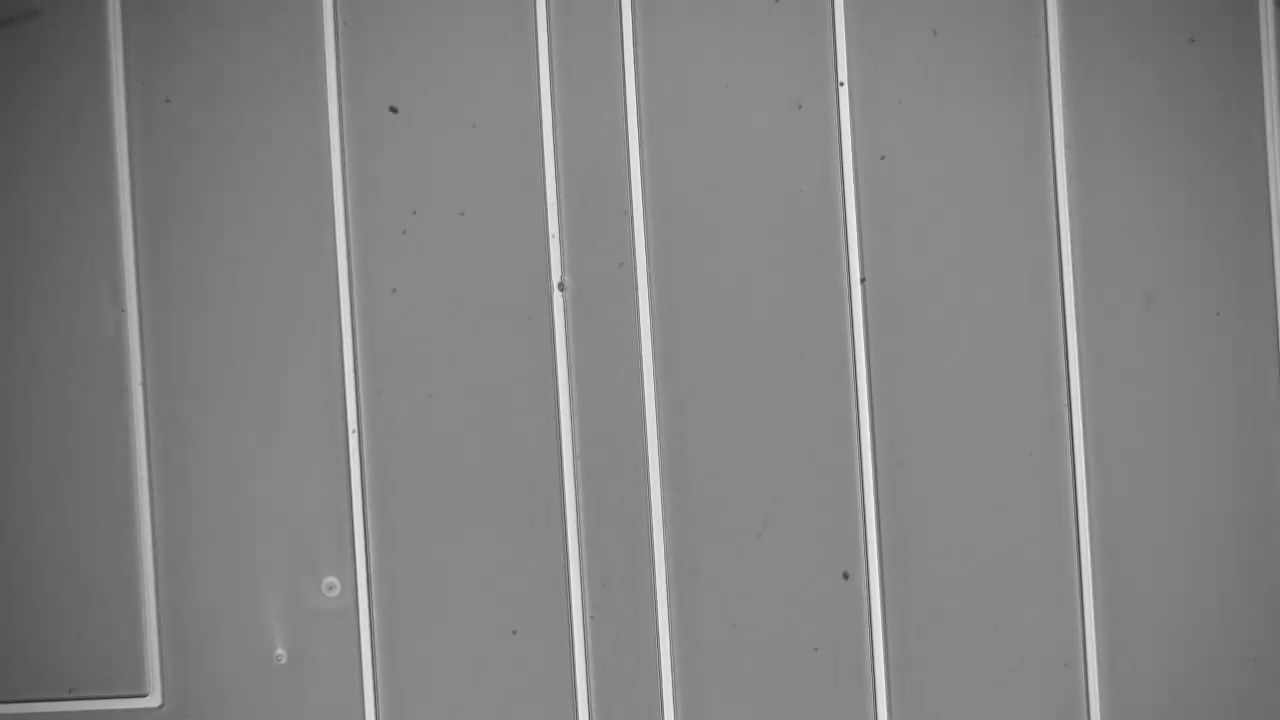stains_enbedded: (547, 271, 573, 300)
